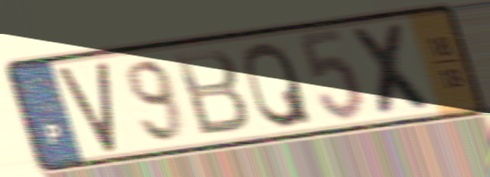5: (292, 24, 368, 126)
9: (125, 57, 189, 143)
B: (170, 46, 253, 140)
Q: (240, 37, 316, 131)
V: (55, 57, 119, 156)
X: (346, 20, 441, 119)
